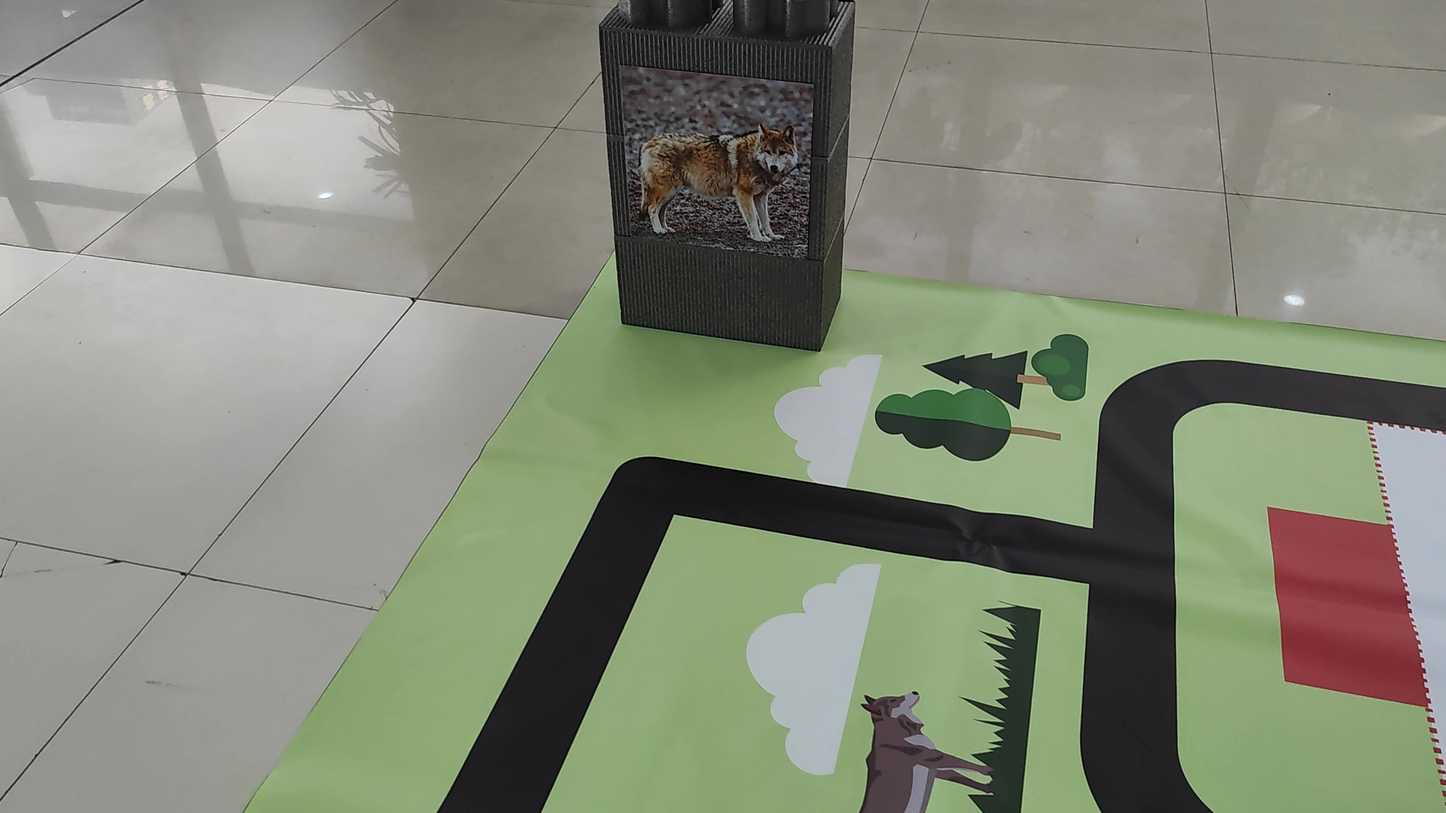wolf: (624, 73, 804, 247)
